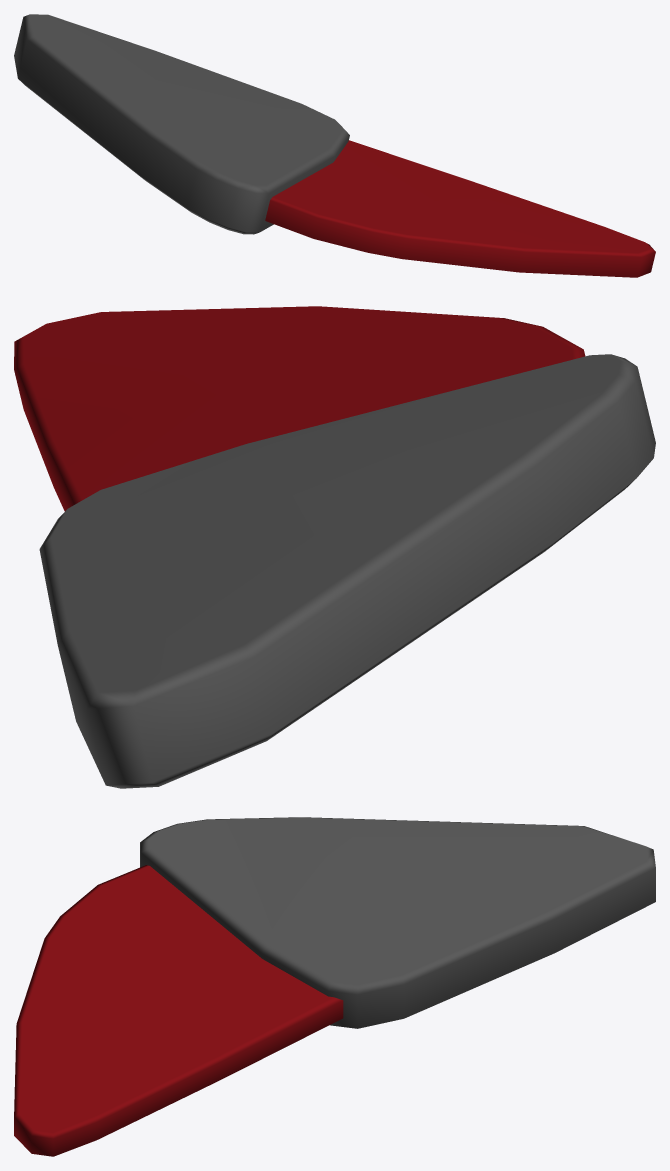
File: Ship_enemy_05_Wing_L.fbx
The picture shows the model from 3 angles, top to bottom: view 1: azimuth 30°, elevation 25°; view 2: azimuth 150°, elevation 25°; view 3: azimuth 270°, elevation 25°; orthographic projection. The views are drawn at different scales.
Visible parts, largest first — view 1: Ship_enemy_05_Wing_L; view 2: Ship_enemy_05_Wing_L; view 3: Ship_enemy_05_Wing_L.
Boxes of the visible parts, x1=… form: Ship_enemy_05_Wing_L: x1=14, y1=14, x2=655, y2=277; Ship_enemy_05_Wing_L: x1=14, y1=306, x2=655, y2=788; Ship_enemy_05_Wing_L: x1=14, y1=817, x2=655, y2=1156.
Size of the model in its own units: 189 by 63.93 by 253.
